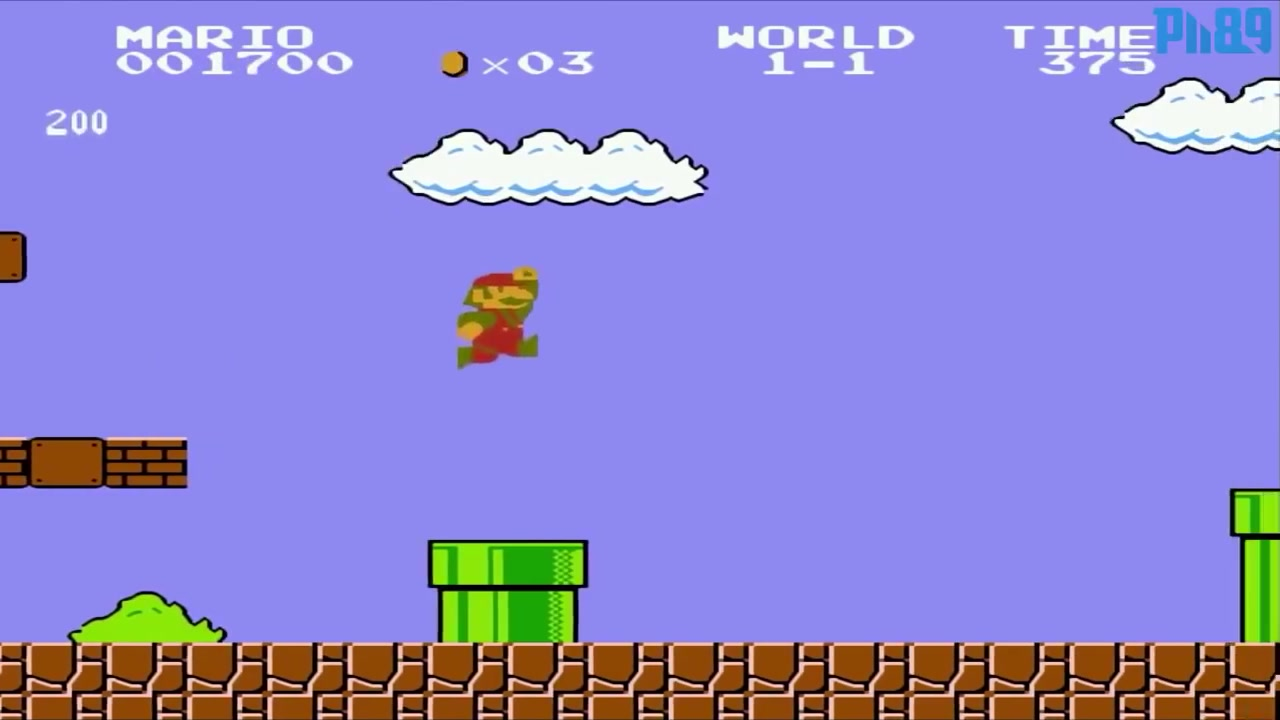mario: (449, 263, 548, 370)
